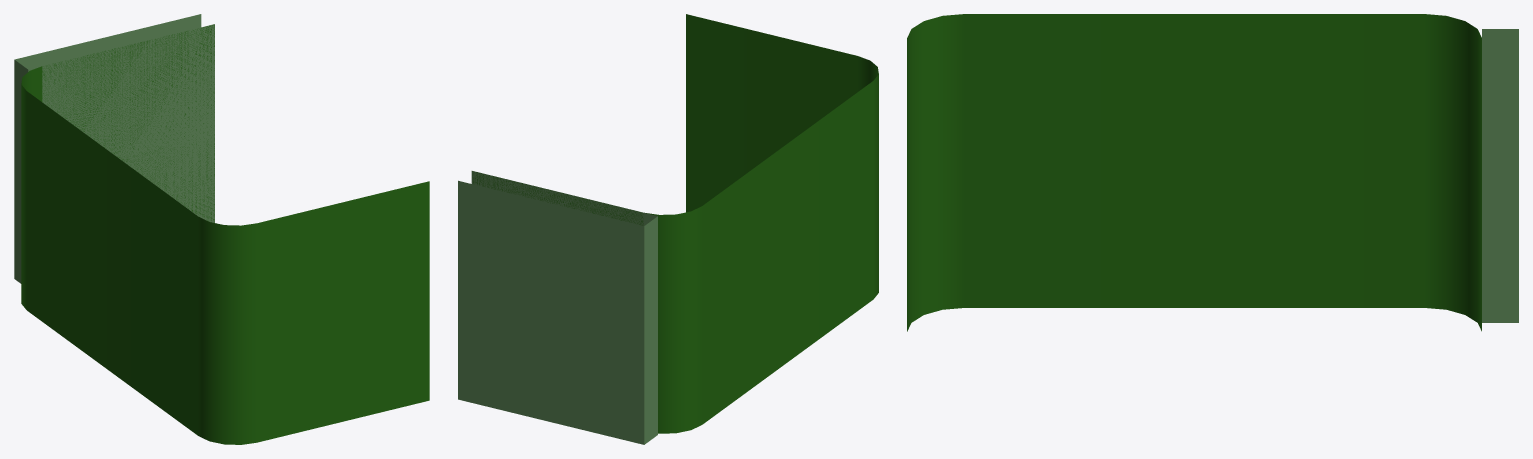
Rendered from a2_1_R_block.fbx.
The picture shows the model from 3 angles, left to right: view 1: azimuth 30°, elevation 25°; view 2: azimuth 150°, elevation 25°; view 3: azimuth 270°, elevation 25°; orthographic projection. The views are drawn at different scales.
Visible parts, largest first — view 1: polySurface243; view 2: polySurface243; view 3: polySurface243.
Boxes of the visible parts, x1=… form: polySurface243: x1=14, y1=14, x2=429, y2=444; polySurface243: x1=458, y1=14, x2=878, y2=444; polySurface243: x1=907, y1=14, x2=1518, y2=331.
Bounding box in the file's own units: 1 × 1 × 1.89.
